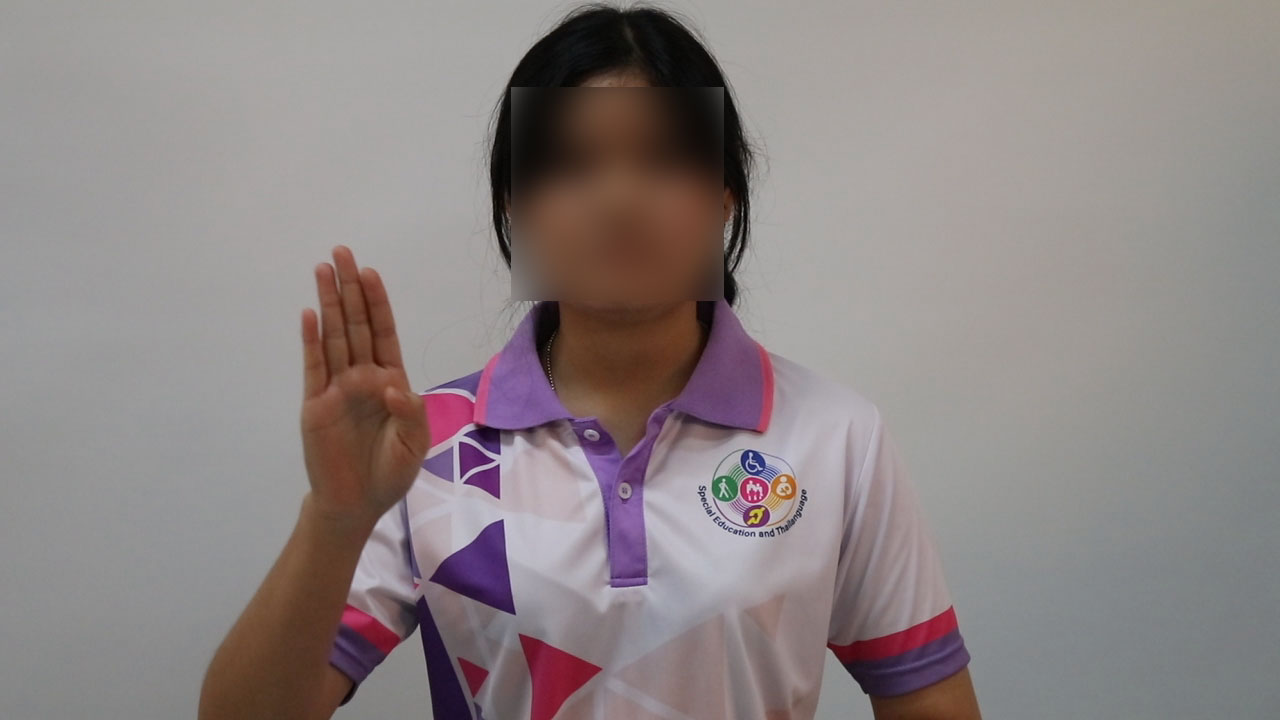bor: (282, 237, 439, 552)
